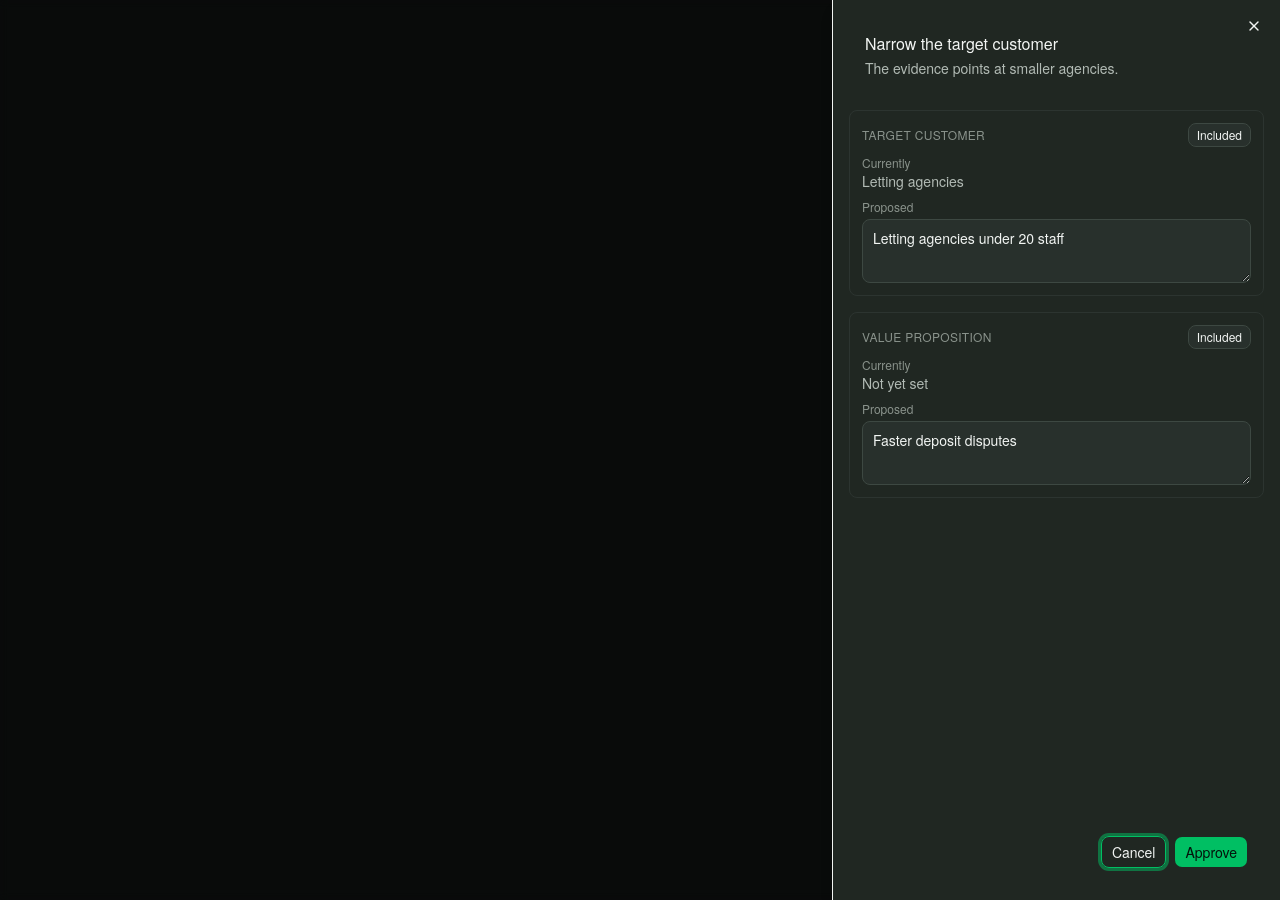
ChangeProposalSheet (T11, docs/review/06-DESIGN_REVIEW.md §6) › relabels Approve as Reject proposal once every item is excluded
The width and height of the screenshot is (1280, 900).
Expected: the text "Letting agencies" is shown, 862,171 -> 964,191
Click the 1st button "Included" at (1219, 135), box 1188,123 -> 1251,147
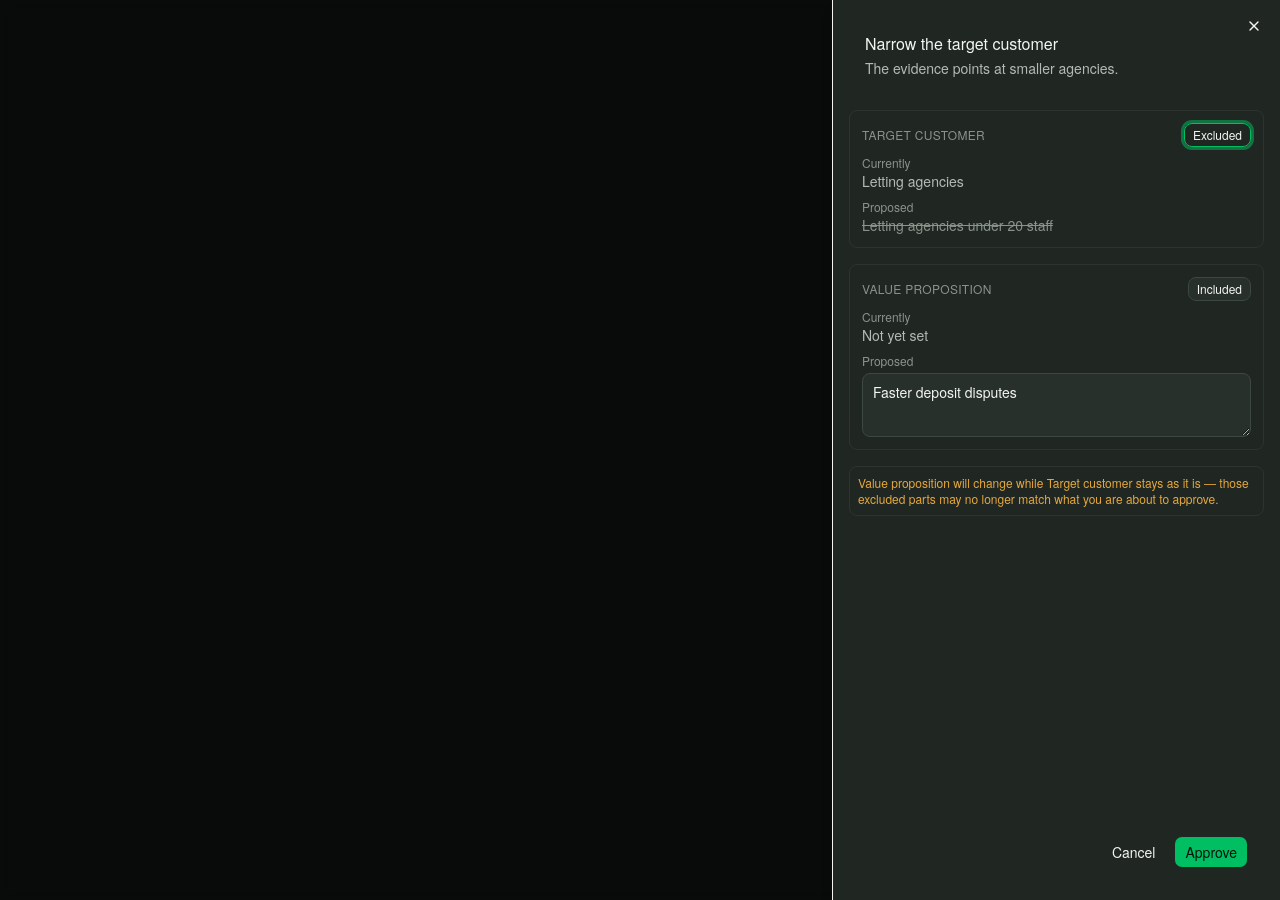
Click the button "Included" at (1219, 289), box 1188,277 -> 1251,301
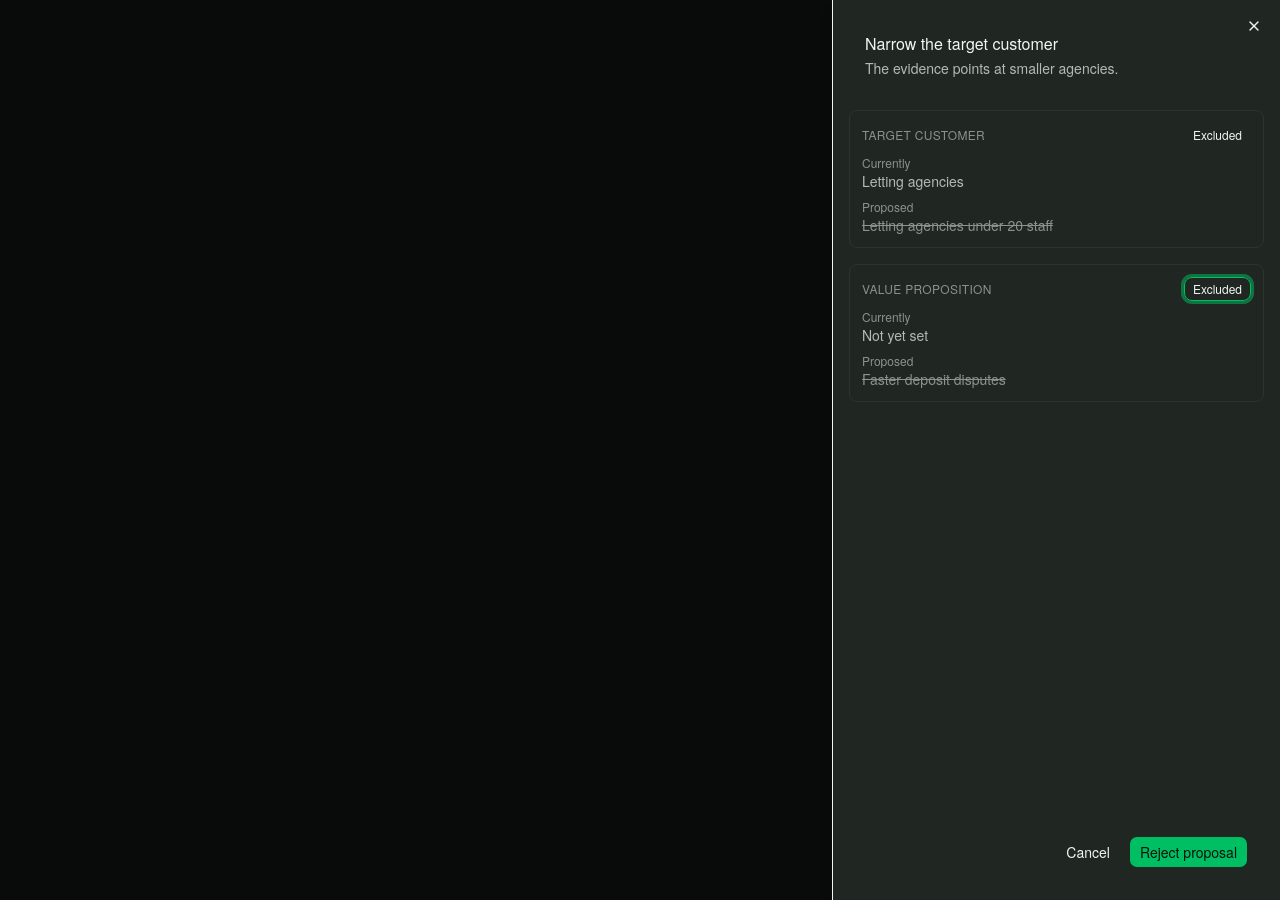
Expected: the button "Reject proposal" is shown, 1129,836 -> 1248,868
